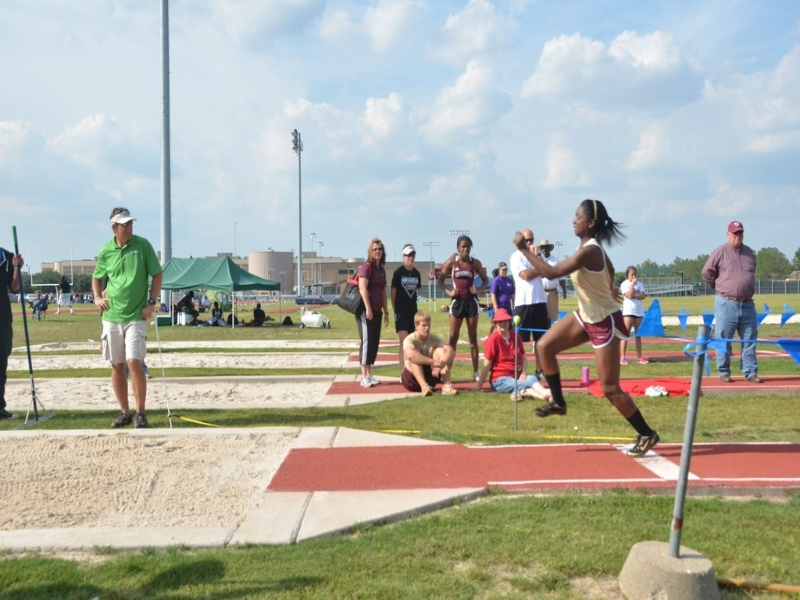person: (87, 203, 160, 431), (564, 194, 620, 414), (713, 212, 759, 341), (354, 234, 391, 392), (405, 312, 450, 405), (444, 229, 485, 323), (490, 308, 531, 396), (1, 240, 21, 417), (514, 226, 538, 329), (536, 236, 564, 321), (390, 237, 420, 314), (489, 254, 514, 314), (623, 262, 644, 324), (58, 274, 74, 317), (30, 295, 52, 320), (174, 291, 197, 309), (251, 302, 267, 326), (209, 300, 222, 324)
